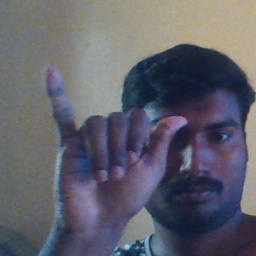J: (42, 65, 188, 221)
